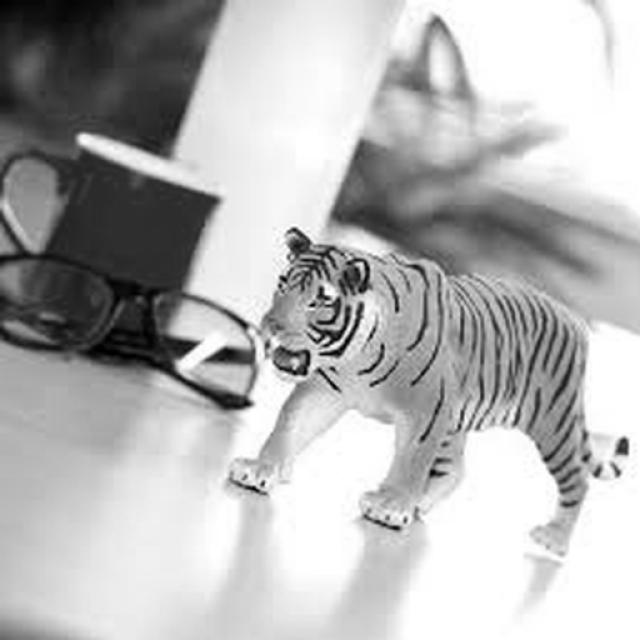Tiger: (225, 225, 630, 559)
